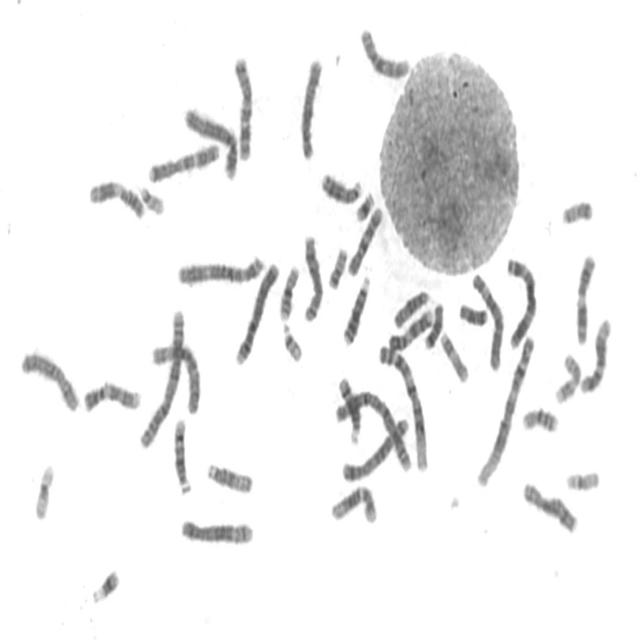A1: (474, 329, 536, 490), (375, 339, 430, 474)
A2: (333, 380, 414, 474), (136, 302, 187, 451)
A3: (174, 247, 266, 289), (503, 250, 539, 350)
B4: (232, 256, 280, 367), (180, 100, 240, 182)
B5: (338, 412, 412, 484), (177, 513, 255, 547)
C10: (356, 19, 412, 82), (344, 200, 384, 278)
C11: (86, 173, 148, 221), (572, 247, 597, 346)
C12: (576, 312, 613, 396), (327, 479, 379, 526)
C6: (147, 336, 202, 417), (469, 266, 506, 372)
C7: (145, 136, 221, 184), (230, 48, 254, 164)
C8: (296, 50, 325, 162), (300, 228, 324, 324)
C9: (384, 302, 434, 353), (80, 374, 142, 415)
D13: (338, 269, 372, 347), (318, 165, 364, 206)
D14: (334, 369, 362, 445), (170, 412, 192, 496)
D15: (203, 456, 254, 496), (389, 284, 432, 329)
E16: (275, 258, 301, 321), (519, 401, 560, 435)
E17: (436, 324, 471, 384), (552, 347, 582, 406)
E18: (421, 296, 445, 351), (456, 296, 489, 328)
F19: (30, 457, 56, 522), (562, 463, 601, 494)
F20: (558, 193, 595, 227), (325, 240, 349, 292)
G21: (88, 562, 121, 606), (352, 184, 376, 223)
G22: (279, 317, 304, 364), (136, 180, 166, 217)
X: (17, 345, 81, 414)
